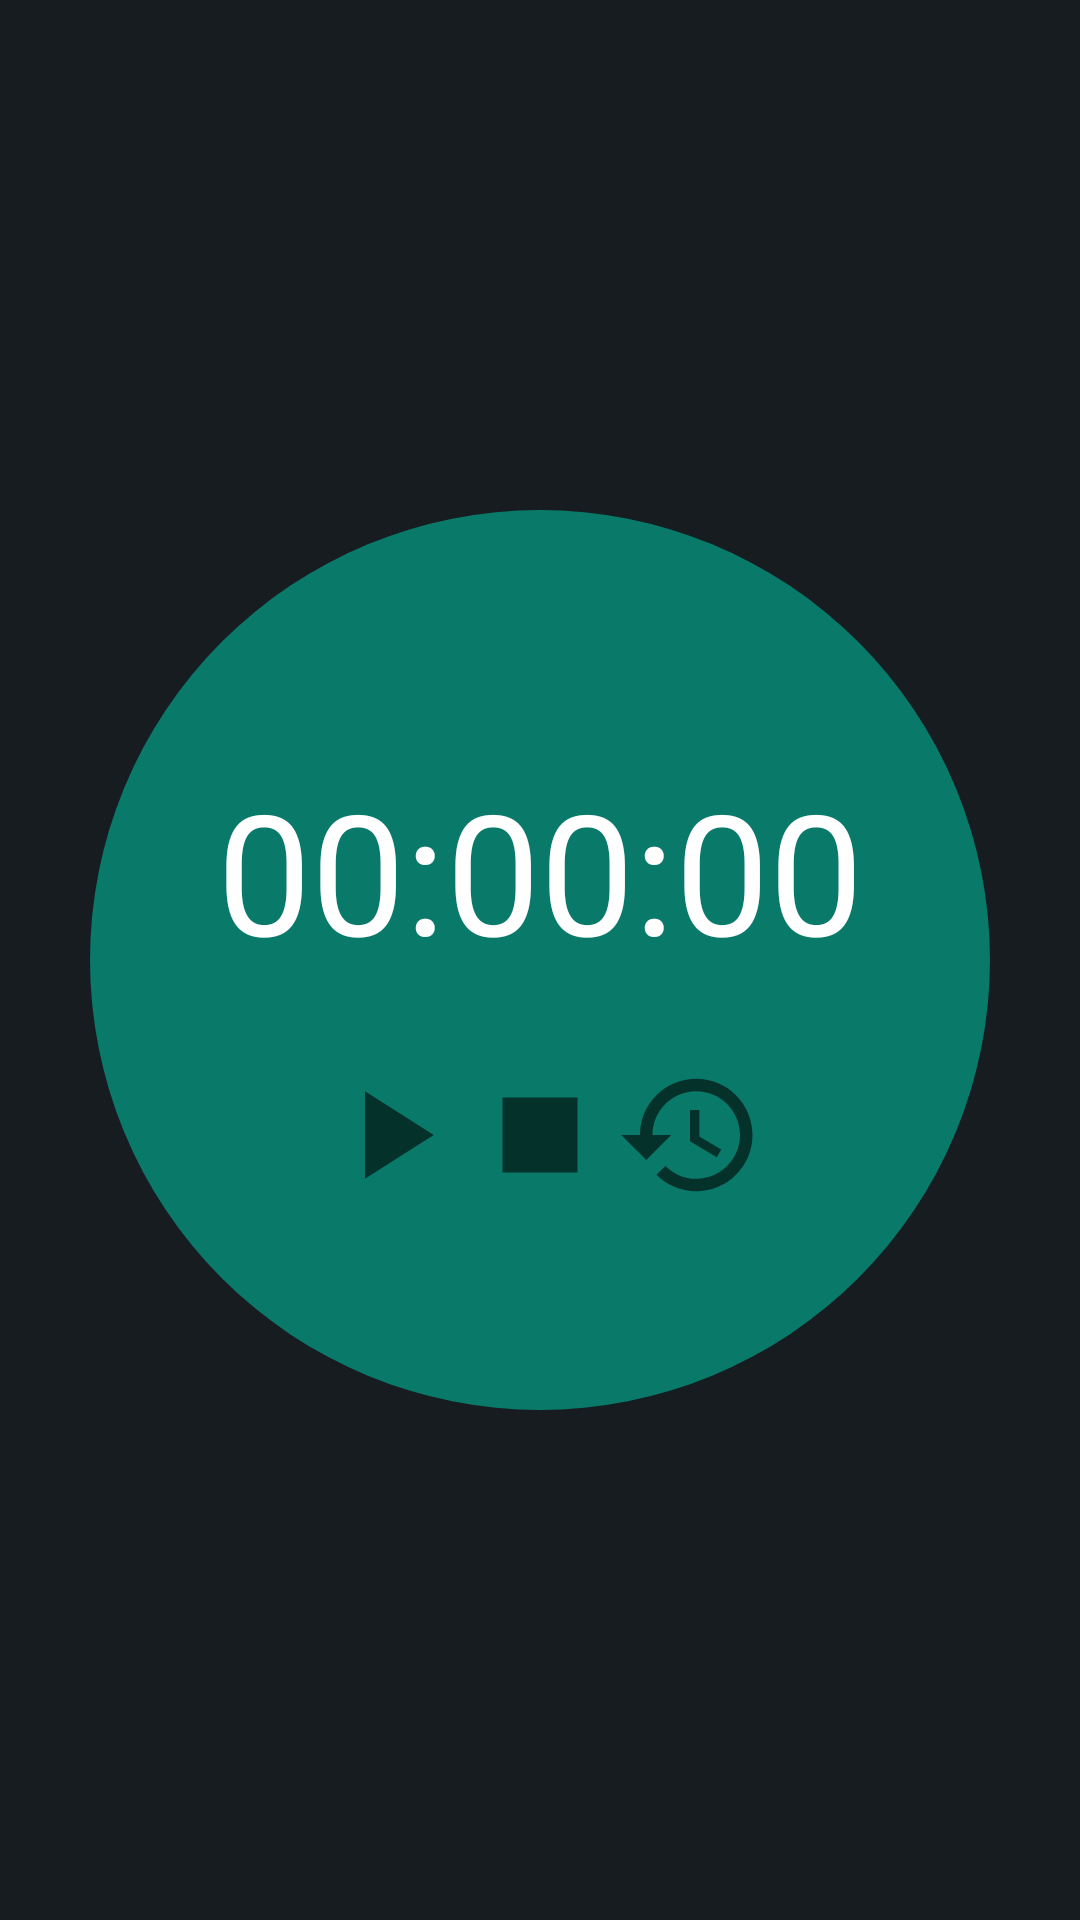

Named icons in this screenshot (1080 x 1920) and their bounding boxes, detection(x1, y1, x2, y2):
play: detection(365, 1091, 433, 1179)
reset: detection(622, 1079, 753, 1191)
stop: detection(502, 1097, 578, 1173)
